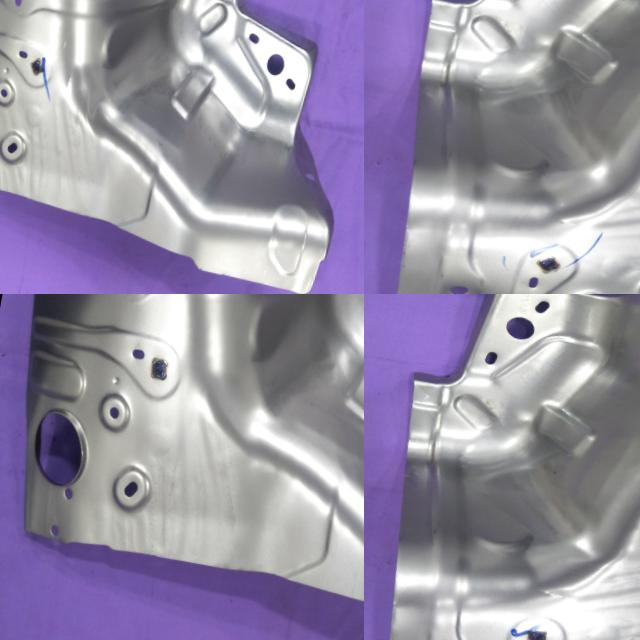Healthy: (0, 294, 364, 640), (0, 0, 364, 294), (364, 294, 640, 640), (364, 0, 640, 294)
